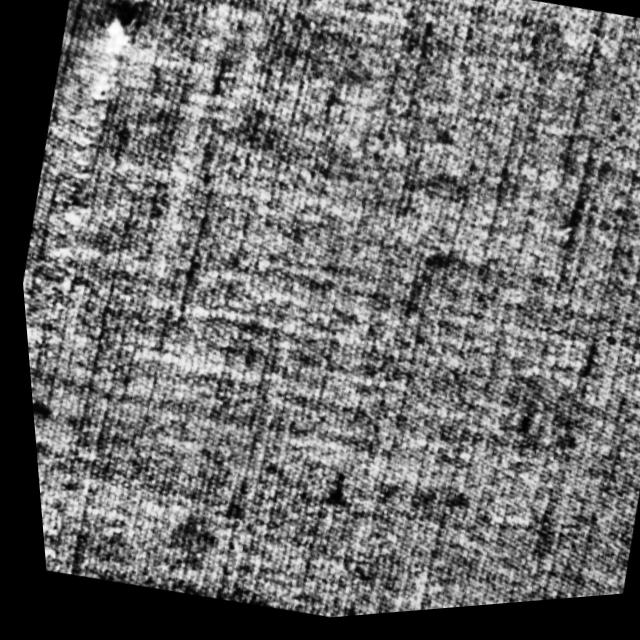Stitch: (11, 0, 189, 307)
